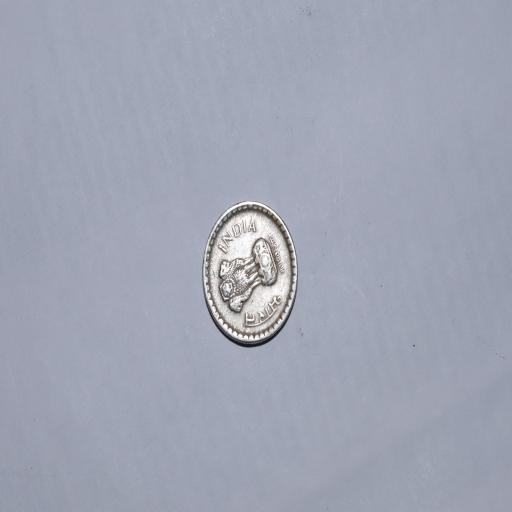rupee5: (200, 197, 301, 346)
